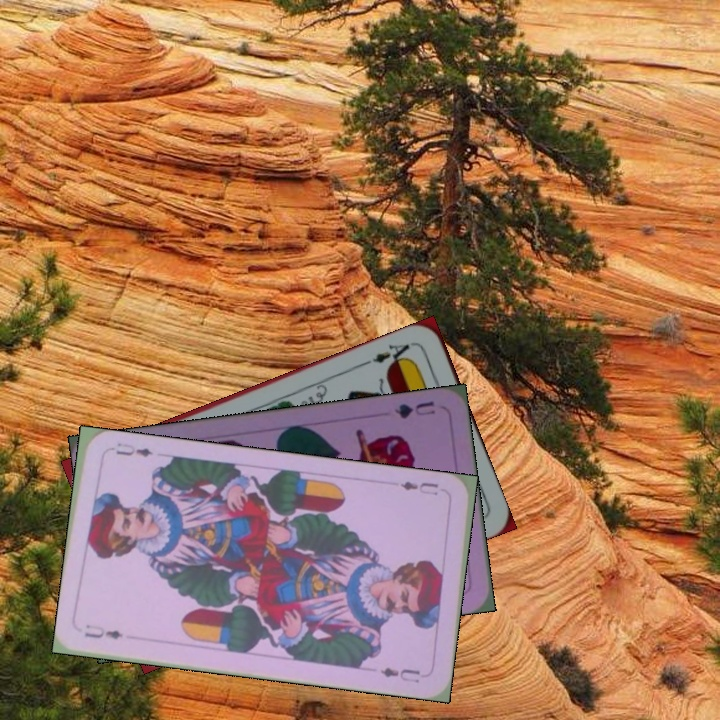EA: (360, 338, 417, 370)
EU: (80, 621, 126, 642), (396, 477, 441, 498)
GU: (390, 396, 438, 422)
